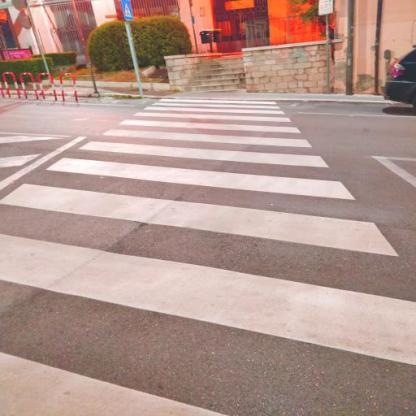crosswalk: (42, 140, 360, 206), (141, 102, 292, 116)
